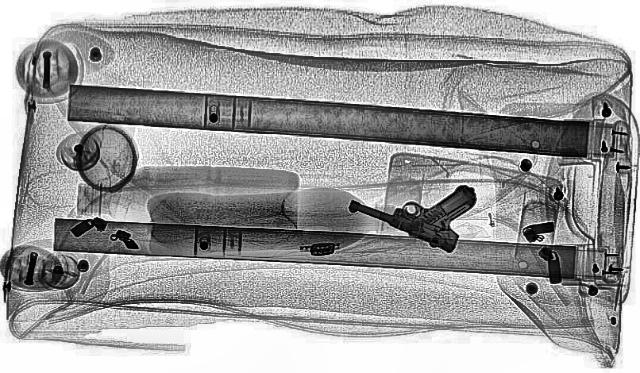Gun: (333, 173, 479, 253)
